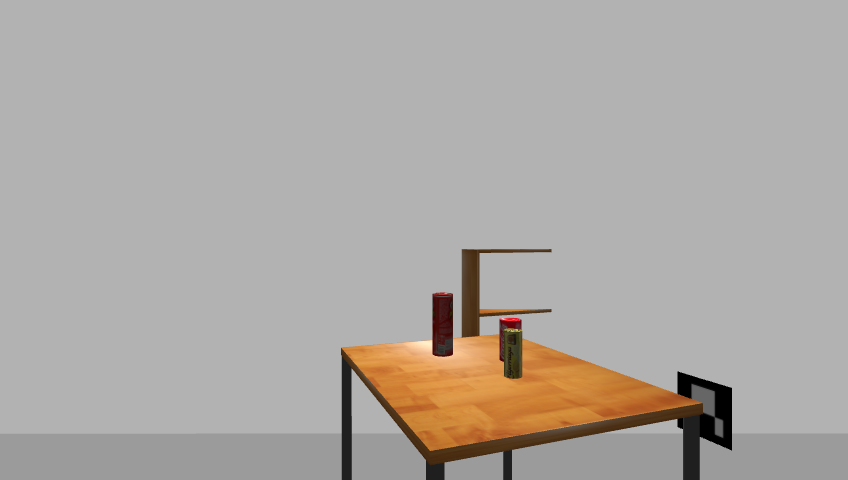aruco marker: (672, 370, 737, 452)
biscuits pack: (503, 328, 523, 380)
bookshelf: (458, 244, 556, 373)
coke can: (498, 317, 522, 362)
dinner table: (332, 332, 708, 479)
pringles can: (430, 291, 455, 358)
